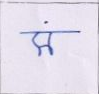anusvara: (45, 21, 48, 23)
